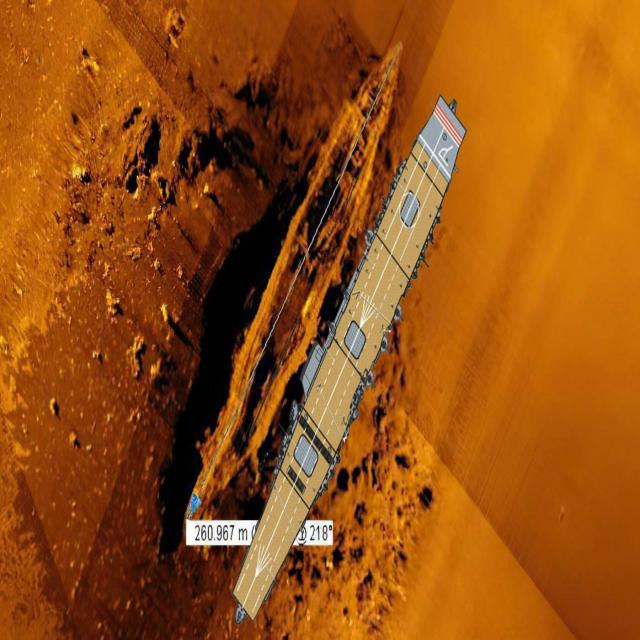ship: (178, 39, 406, 519)
